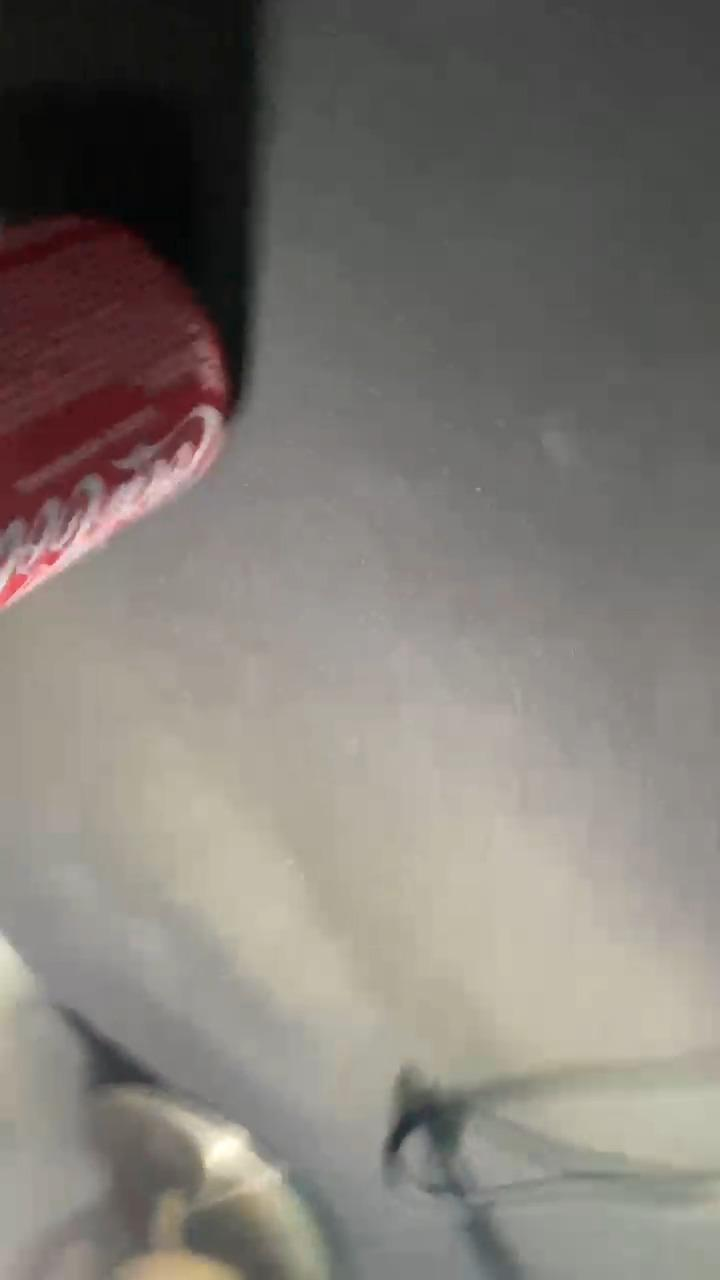coke: (0, 195, 236, 615)
